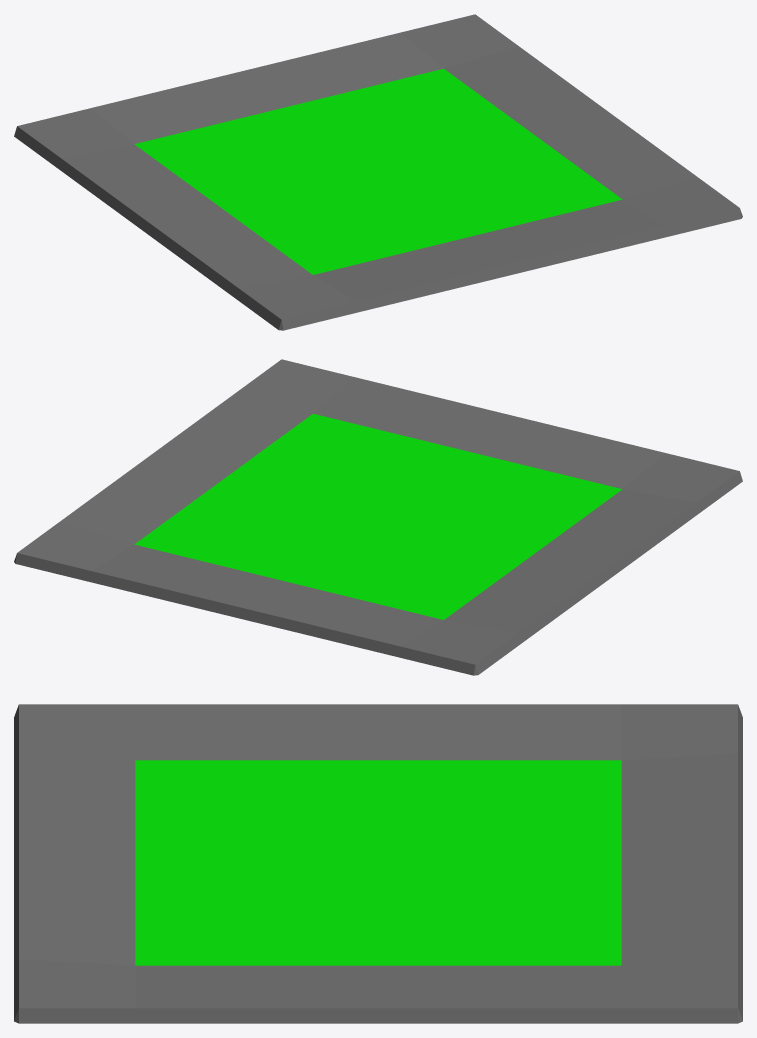
Rendered from p2-start.glb.
The picture shows the model from 3 angles, top to bottom: view 1: azimuth 30°, elevation 25°; view 2: azimuth 150°, elevation 25°; view 3: azimuth 270°, elevation 25°; orthographic projection. The views are drawn at different scales.
Visible parts, largest first — view 1: Start; view 2: Start; view 3: Start.
Part boxes in pixels (x1,y1,x2,y2): Start: [14, 14, 742, 330]; Start: [14, 359, 742, 675]; Start: [14, 704, 742, 1023].
Bounding box in the file's own units: 6 × 0.1187 × 6.
